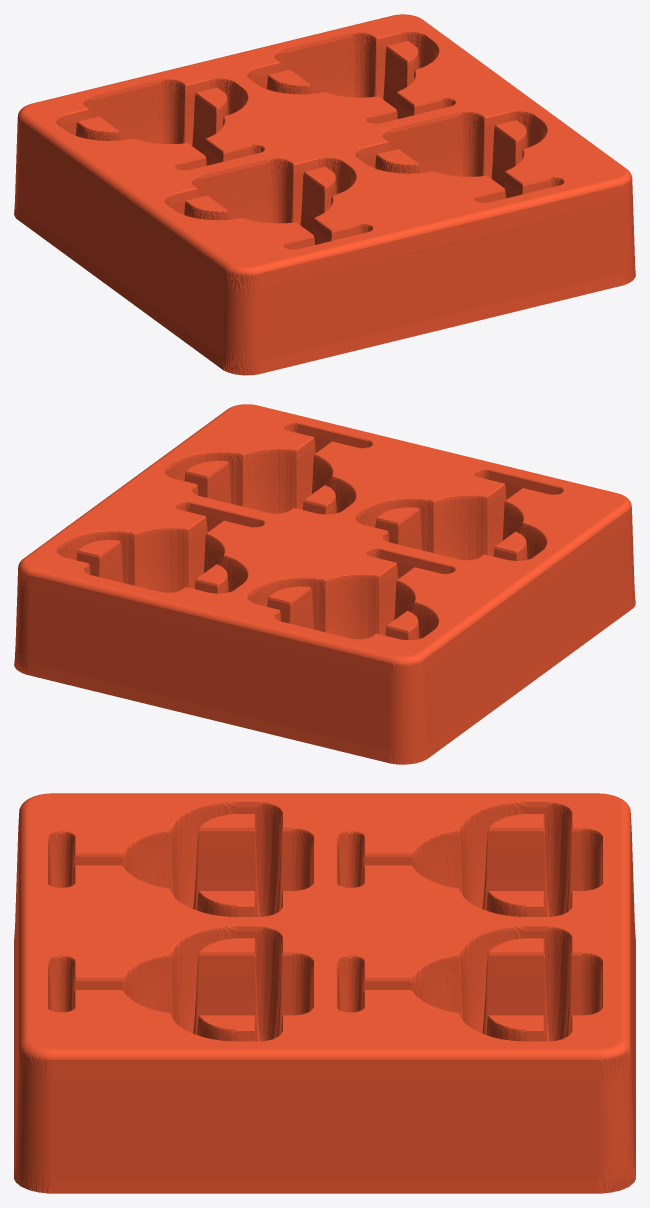
File: mold.glb
The picture shows the model from 3 angles, top to bottom: view 1: azimuth 30°, elevation 25°; view 2: azimuth 150°, elevation 25°; view 3: azimuth 270°, elevation 25°; orthographic projection. The views are drawn at different scales.
Parts seen in each view (by area): view 1: geometry_0; view 2: geometry_0; view 3: geometry_0.
Part boxes in pixels (left/top/right/bottom): geometry_0: left=14, top=14, right=635, bottom=375; geometry_0: left=14, top=404, right=635, bottom=764; geometry_0: left=14, top=793, right=635, bottom=1193.
Bounding box in the file's own units: 0.1493 × 0.036 × 0.1468.
